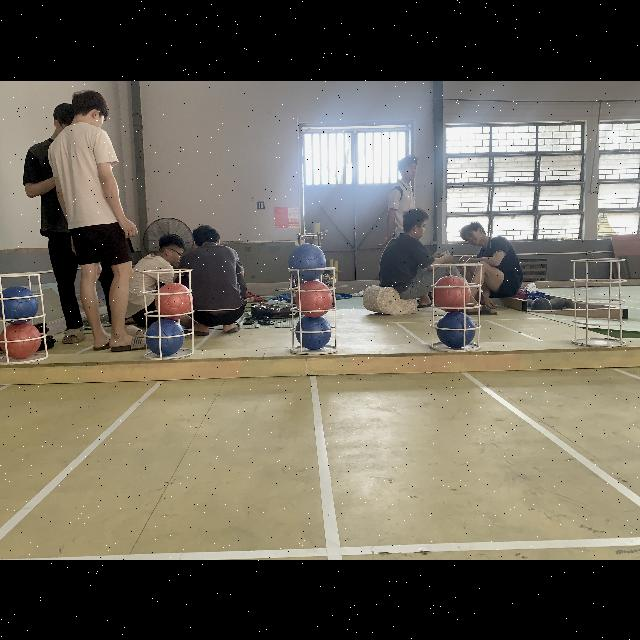B: (144, 316, 186, 354), (0, 285, 38, 325), (438, 311, 477, 349), (288, 242, 326, 280), (296, 314, 332, 352)
R: (0, 321, 42, 359), (153, 282, 193, 320), (294, 280, 334, 316), (434, 275, 470, 311)
